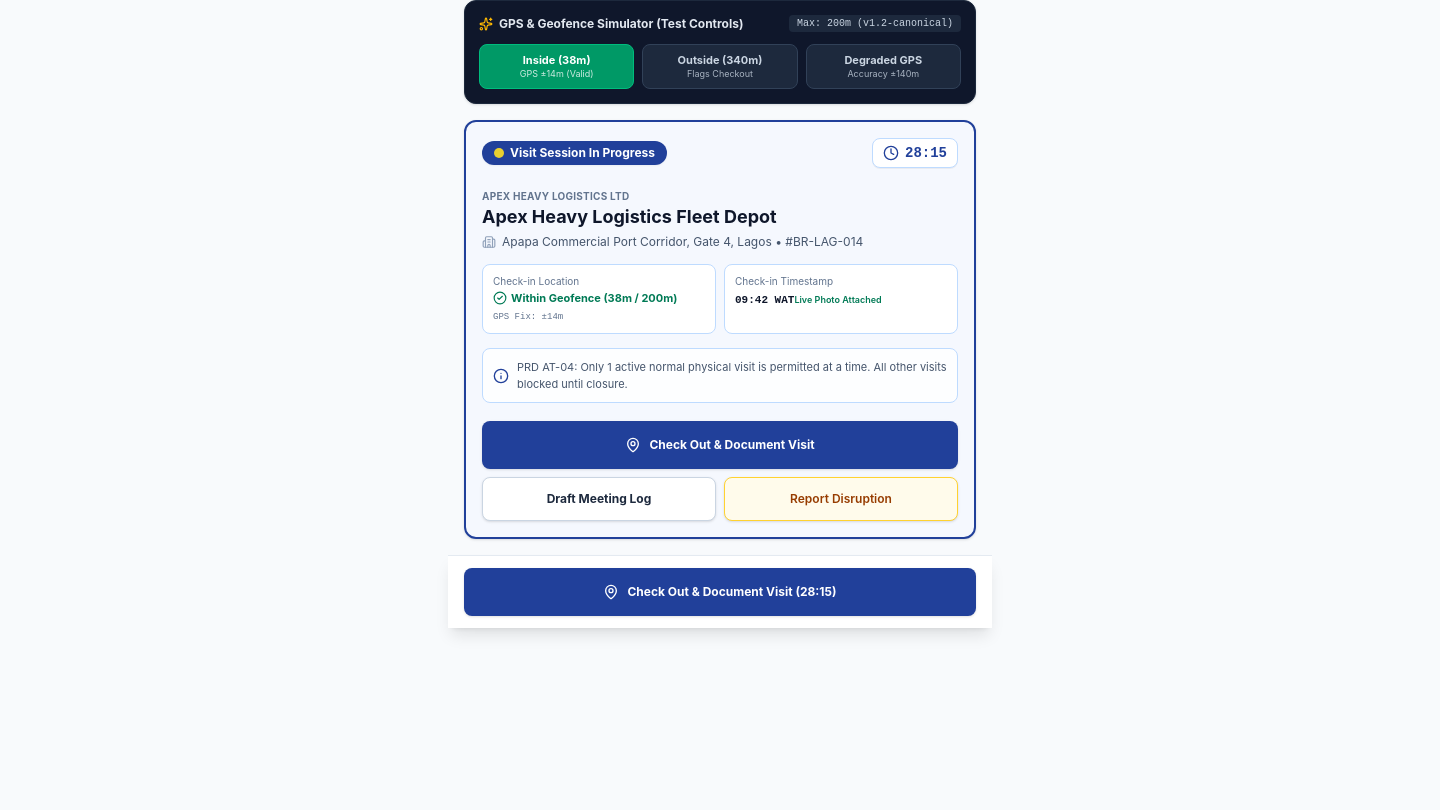
Test: Stage 3C: Client Visits, Geofencing, Photo Evidence & Meeting Logs › 5. Checkout Outside Geofence (AT-05 / PRD §7.2) › prompts outside-geofence warning modal when checkout distance > 200m
expect the text "Visit Session In Progress" is shown: met, box [482,141,667,165]
// Click "Outside (340m)" simulator control
Click the button "Outside (340m) Flags Checkout": click(720, 67) [642,44,798,89]
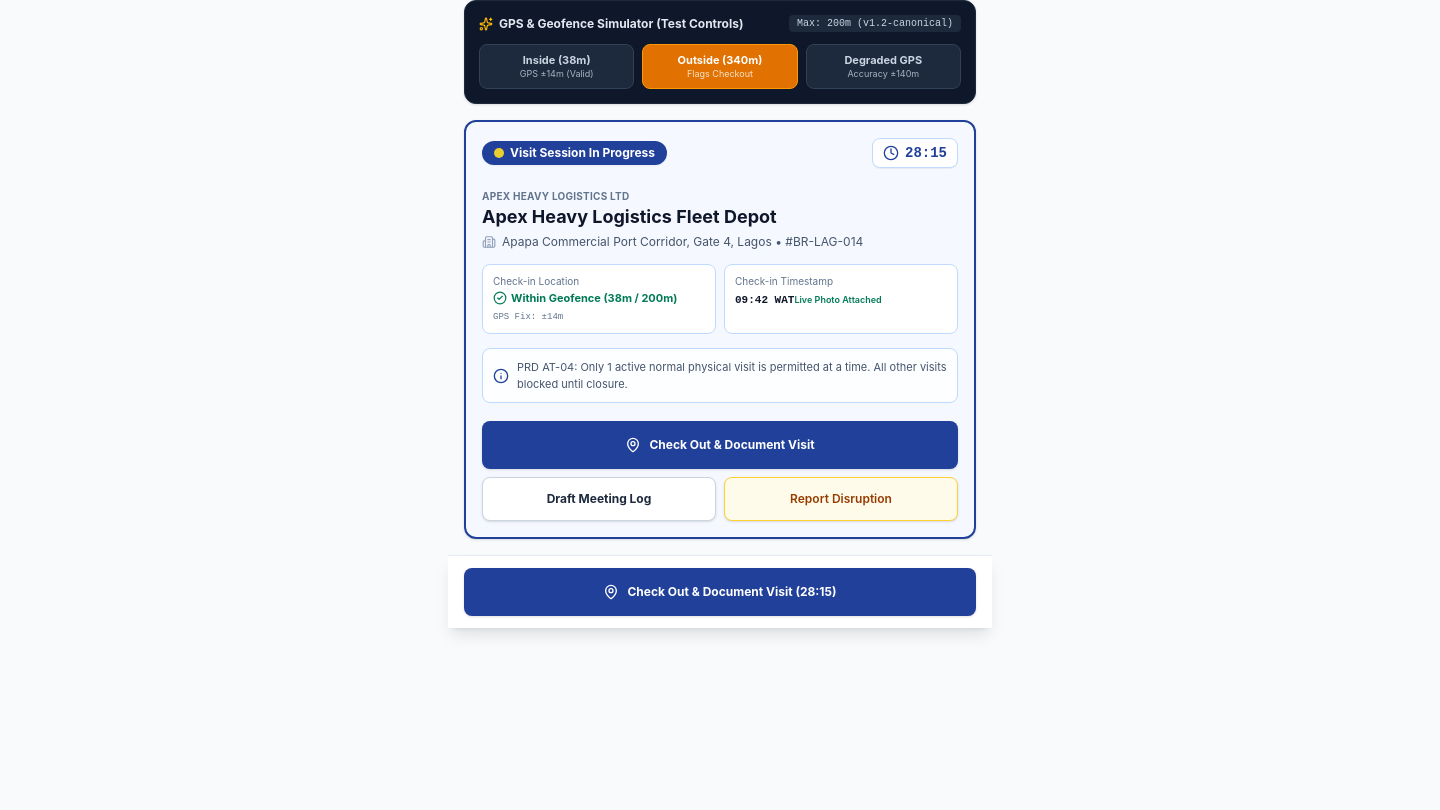
// Click checkout (using first matching button)
Click the button "Check Out & Document Visit": click(720, 446) [482,422,958,470]
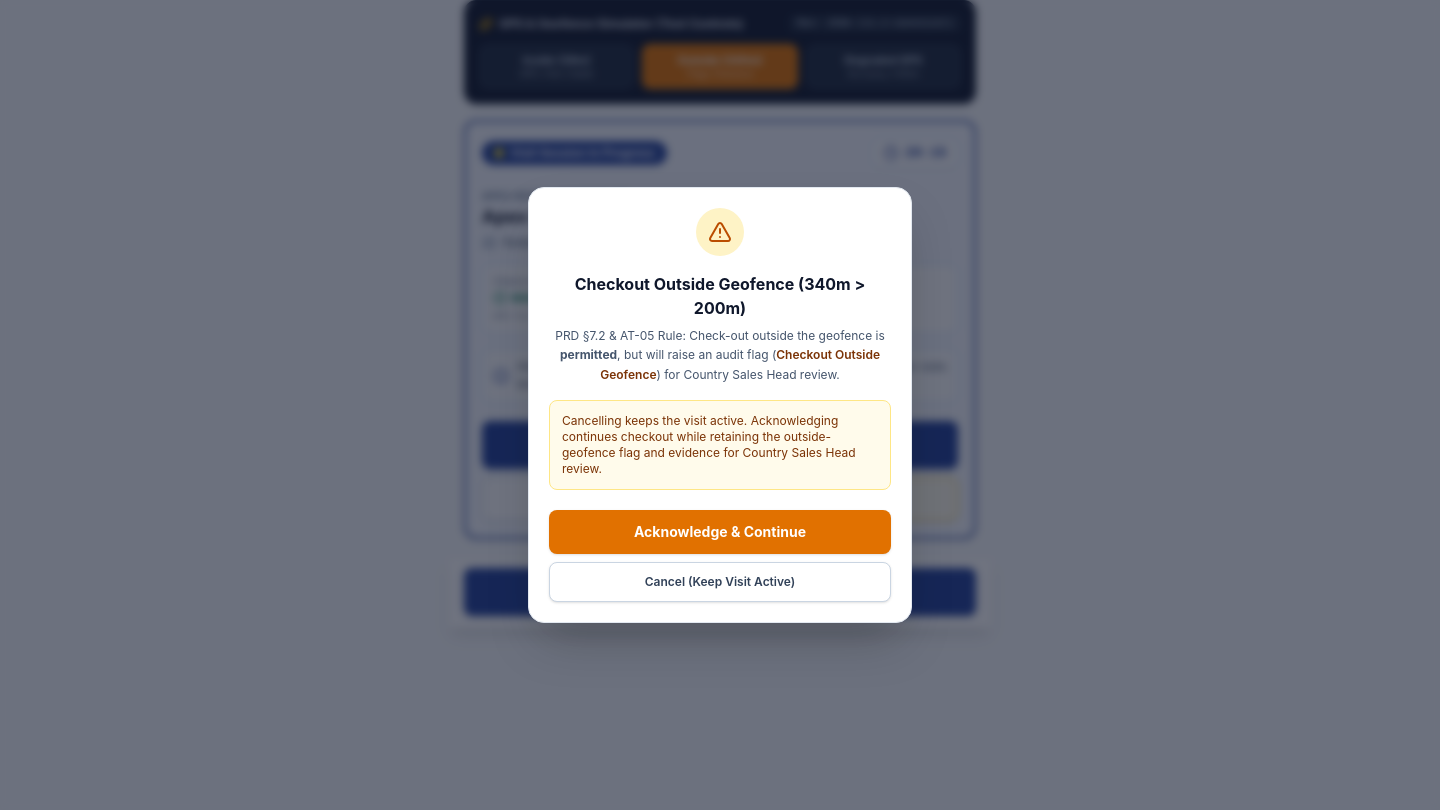
expect the heading "Checkout Outside Geofence (340m > 200m)" is shown: met, box [575,274,865,318]
expect the button "Acknowledge & Continue" is shown: met, box [549,510,891,554]
expect the button "Cancel (Keep Visit Active)" is shown: met, box [549,562,891,602]
